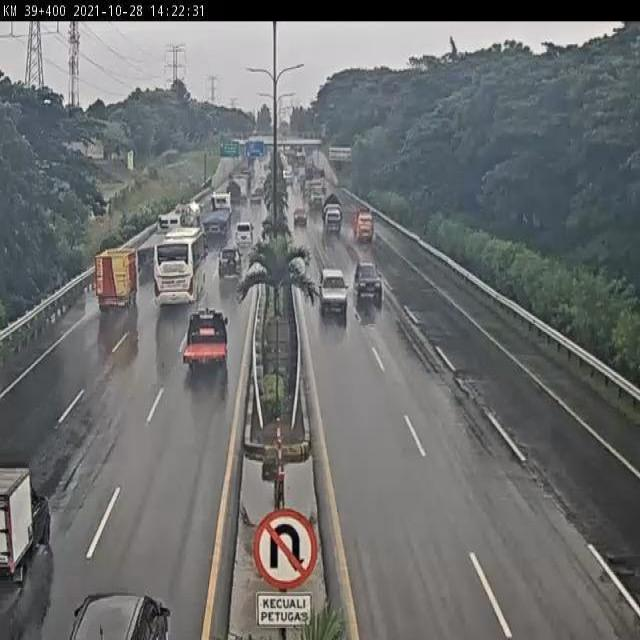big bus: (153, 228, 208, 307)
car: (0, 456, 52, 584), (319, 267, 347, 312), (354, 261, 382, 300), (217, 246, 244, 282), (234, 223, 254, 249), (293, 206, 309, 226)
truck-l-: (171, 201, 203, 235)
truck-m-: (323, 195, 344, 236)
truck-s-: (182, 307, 232, 369), (93, 247, 139, 313), (353, 203, 377, 244)
truck-xl-: (133, 215, 179, 273), (200, 194, 232, 242)
